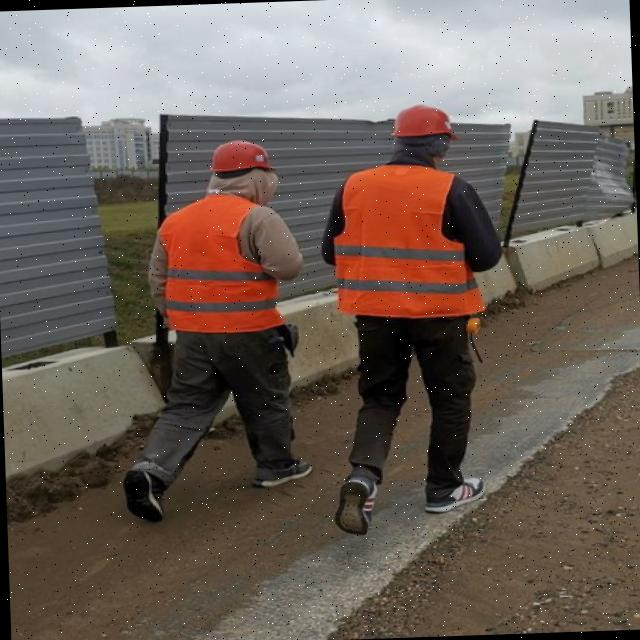Helmet: (207, 140, 278, 184), (390, 103, 459, 148)
Jacket: (339, 152, 471, 319), (163, 186, 286, 339)
